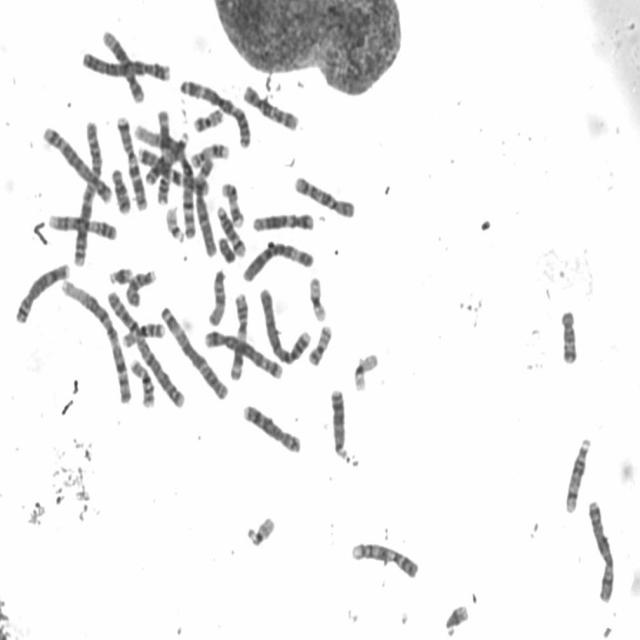A1: (58, 277, 134, 406), (132, 122, 198, 242)
A2: (104, 288, 186, 409), (71, 118, 104, 270)
A3: (158, 302, 229, 400), (177, 74, 253, 148)
B4: (257, 283, 314, 367), (80, 48, 172, 82)
B5: (40, 123, 113, 204), (200, 326, 284, 381)
C10: (290, 172, 356, 220), (240, 81, 300, 133)
C11: (227, 288, 250, 382), (154, 110, 172, 208)
C12: (100, 27, 144, 104), (249, 209, 315, 234)
C6: (239, 238, 315, 284), (193, 154, 218, 259)
C7: (135, 144, 210, 198), (114, 111, 148, 213)
C8: (13, 259, 70, 325), (240, 400, 303, 456)
C9: (349, 538, 420, 581), (46, 210, 119, 242)
D13: (144, 130, 189, 187), (328, 384, 350, 464)
D14: (564, 434, 594, 514), (214, 203, 247, 259)
D15: (123, 265, 158, 308), (205, 265, 228, 328)
E16: (128, 354, 156, 408), (121, 318, 166, 349)
E17: (188, 139, 232, 170), (219, 179, 245, 230)
E18: (557, 305, 579, 366), (110, 164, 132, 216)
F19: (350, 349, 380, 393), (307, 272, 328, 324)
F20: (306, 320, 333, 368), (190, 105, 225, 134)
G21: (442, 600, 470, 638), (106, 263, 134, 287)
G22: (244, 512, 277, 549), (163, 203, 186, 244)
X: (587, 497, 619, 606)
Y: (217, 233, 236, 264)
